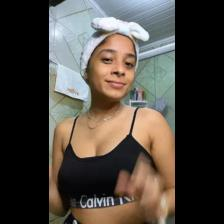Normal: (89, 39, 134, 98)
